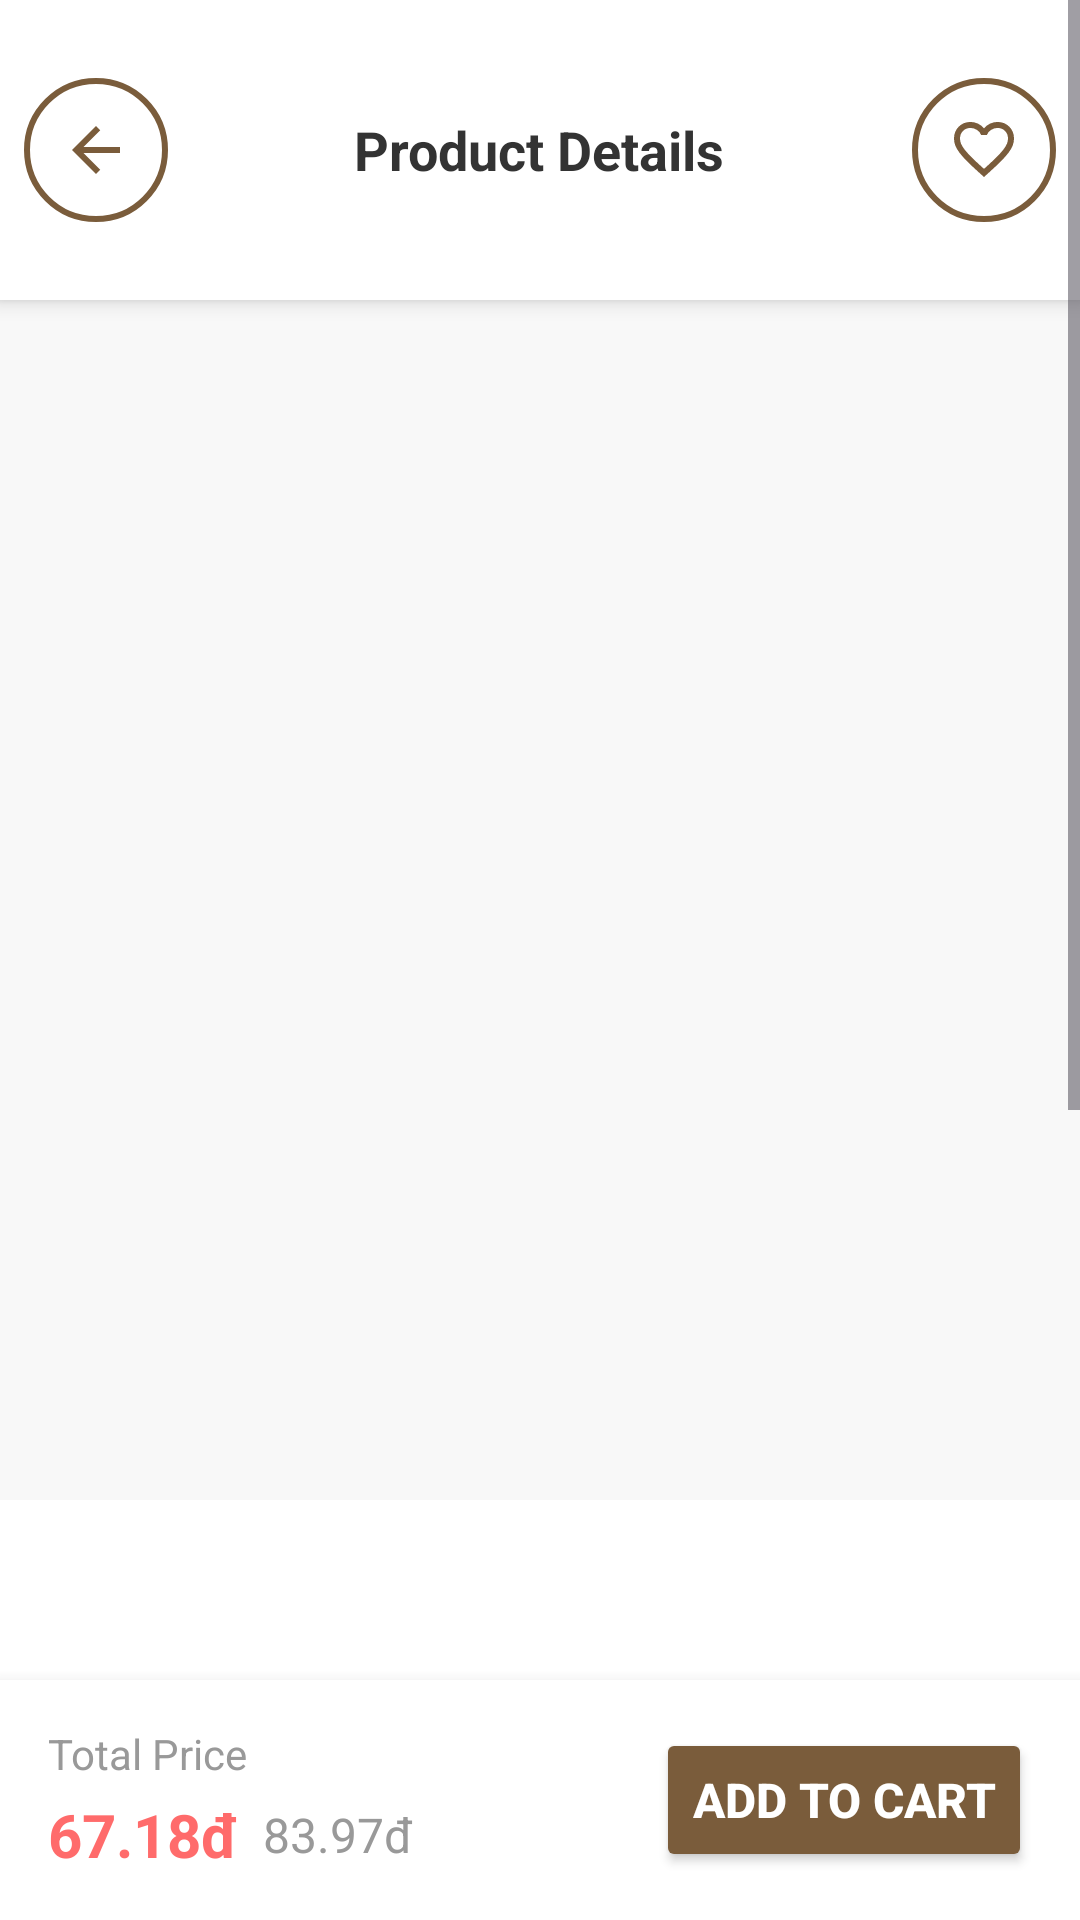

Icons on this 1080×1920 Android screen, each with its box as (x1, y1, x2, y2):
arrow back: (24, 78, 168, 222)
heart: (912, 78, 1056, 222)
